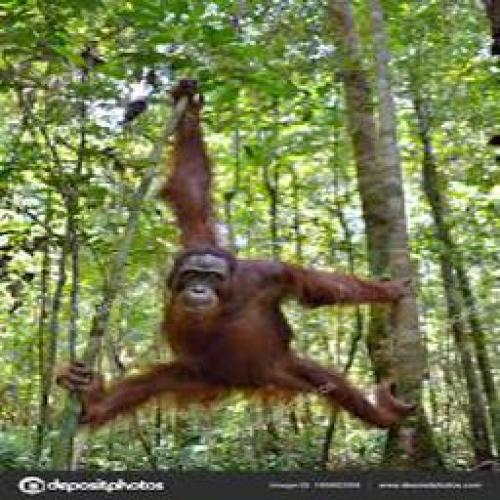orangutan-endangered: (66, 82, 417, 429)
